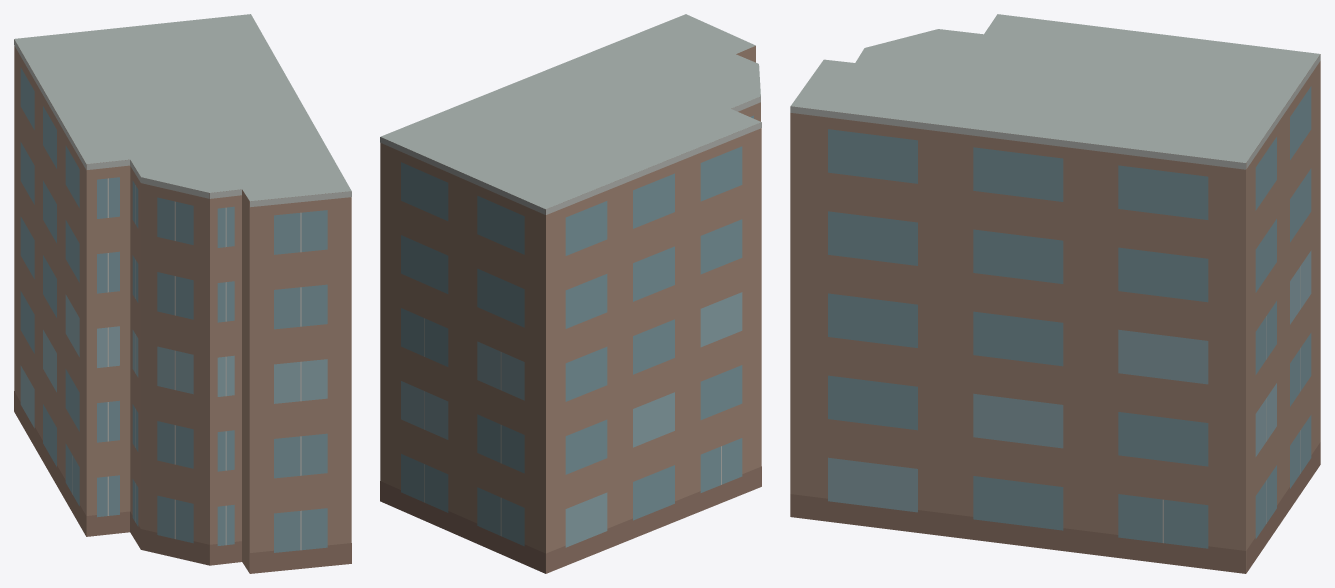
The model's file is survey-upis-32677594.glb.
The picture shows the model from 3 angles, left to right: view 1: azimuth 30°, elevation 25°; view 2: azimuth 150°, elevation 25°; view 3: azimuth 270°, elevation 25°; orthographic projection. The views are drawn at different scales.
Visible parts, largest first — view 1: survey-upis-32677594.tmp; view 2: survey-upis-32677594.tmp; view 3: survey-upis-32677594.tmp.
Boxes of the visible parts, x1=… form: survey-upis-32677594.tmp: x1=14, y1=14, x2=351, y2=573; survey-upis-32677594.tmp: x1=380, y1=14, x2=761, y2=573; survey-upis-32677594.tmp: x1=790, y1=14, x2=1320, y2=573.
Bounding box in the file's own units: 11.85 × 15.2 × 17.79.
